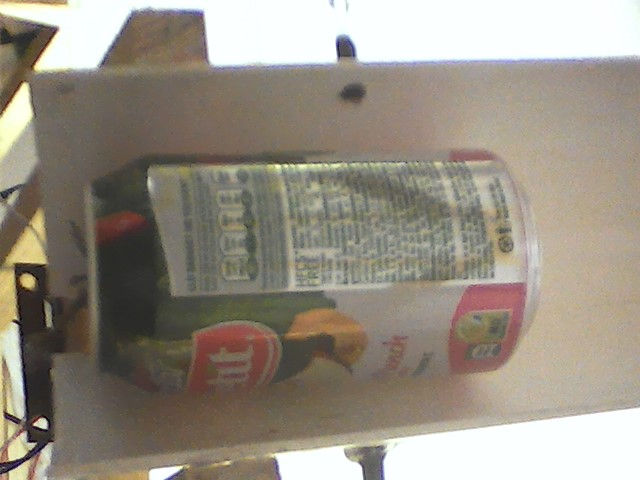lata: (78, 145, 549, 399)
